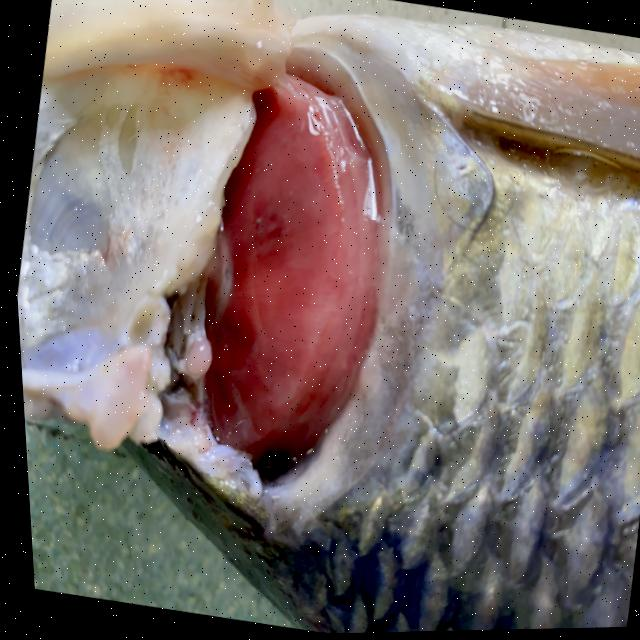Fresh: (104, 0, 449, 526)
